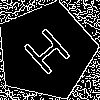H: (21, 26, 80, 84)
